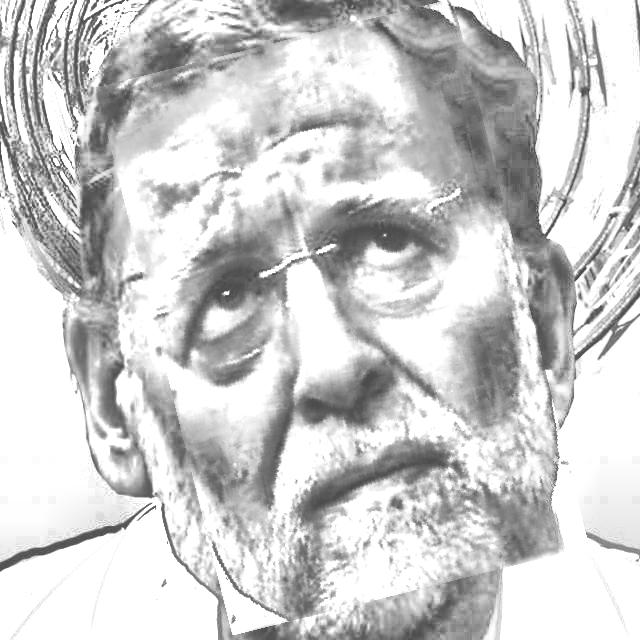sad: (128, 16, 558, 617)
